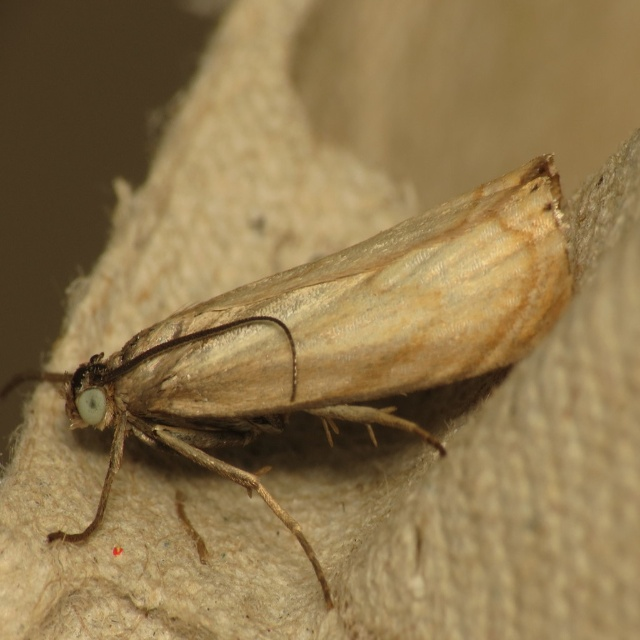Moths and butterflies: (0, 150, 580, 615)
